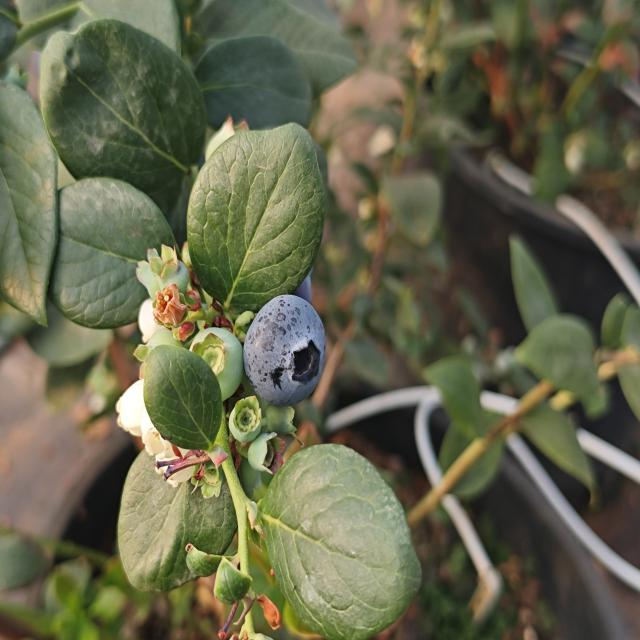ripe: (240, 290, 334, 410), (268, 244, 318, 309)
